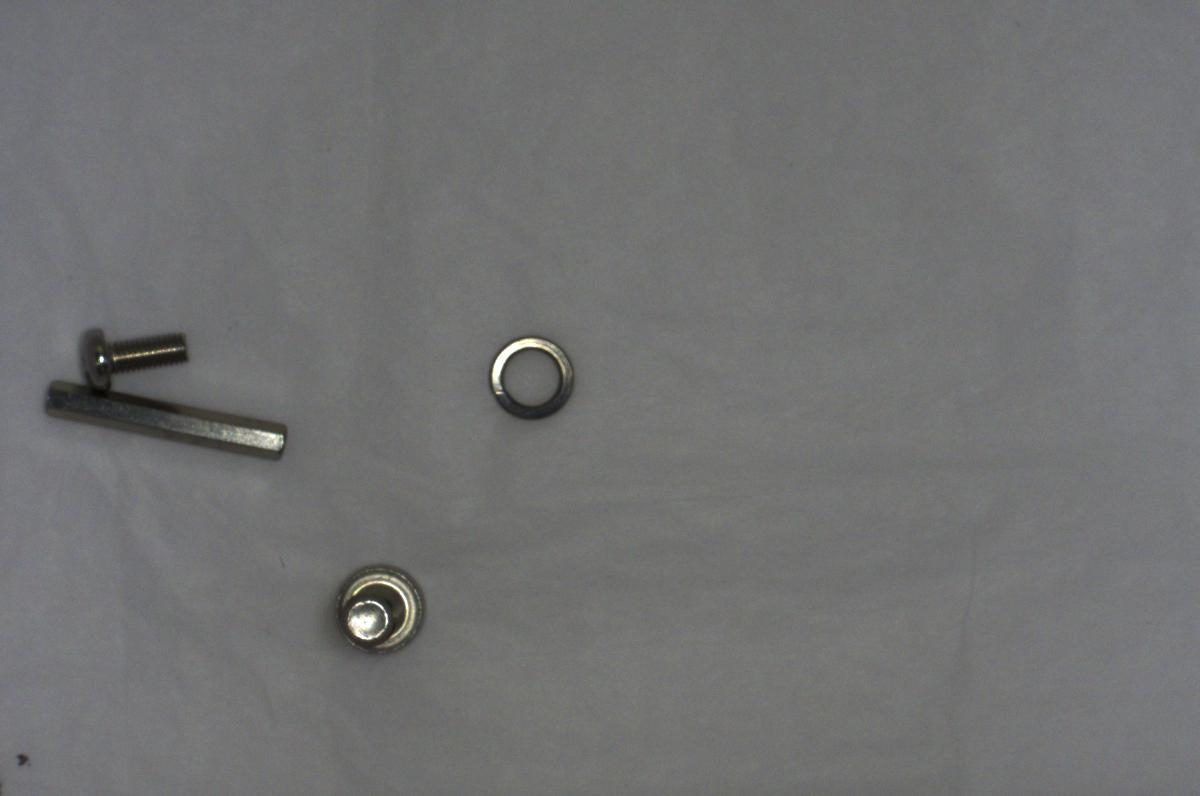Double hexagonal column: (26, 374, 294, 462)
Hexagon screw: (321, 560, 435, 667)
Round head screw: (67, 321, 193, 385)
Spring washer: (478, 326, 584, 429)
